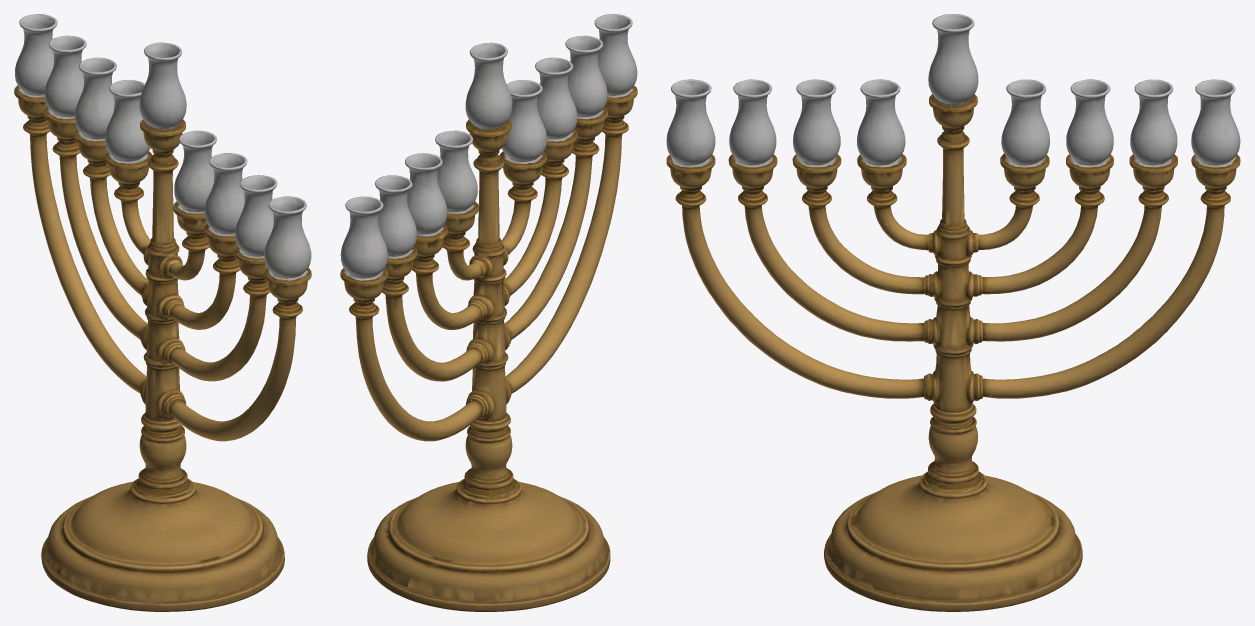
File: lt_menorah_b.glb
The picture shows the model from 3 angles, left to right: view 1: azimuth 30°, elevation 25°; view 2: azimuth 150°, elevation 25°; view 3: azimuth 270°, elevation 25°; orthographic projection. The views are drawn at different scales.
Visible parts, largest first — view 1: tripo_node_e73b7925-1886-4f33-9c2c-f6aadbd85813; view 2: tripo_node_e73b7925-1886-4f33-9c2c-f6aadbd85813; view 3: tripo_node_e73b7925-1886-4f33-9c2c-f6aadbd85813.
Part boxes in pixels (x1=…): tripo_node_e73b7925-1886-4f33-9c2c-f6aadbd85813: x1=14, y1=14, x2=311, y2=611; tripo_node_e73b7925-1886-4f33-9c2c-f6aadbd85813: x1=340, y1=14, x2=637, y2=611; tripo_node_e73b7925-1886-4f33-9c2c-f6aadbd85813: x1=666, y1=14, x2=1240, y2=611.
Size of the model in its own units: 0.432 by 1 by 0.9681.
1 material, 1 textured.
